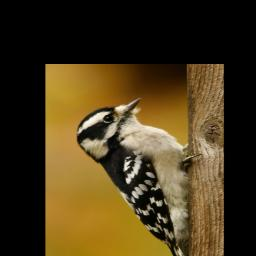Woodpecker: (75, 97, 199, 256)
